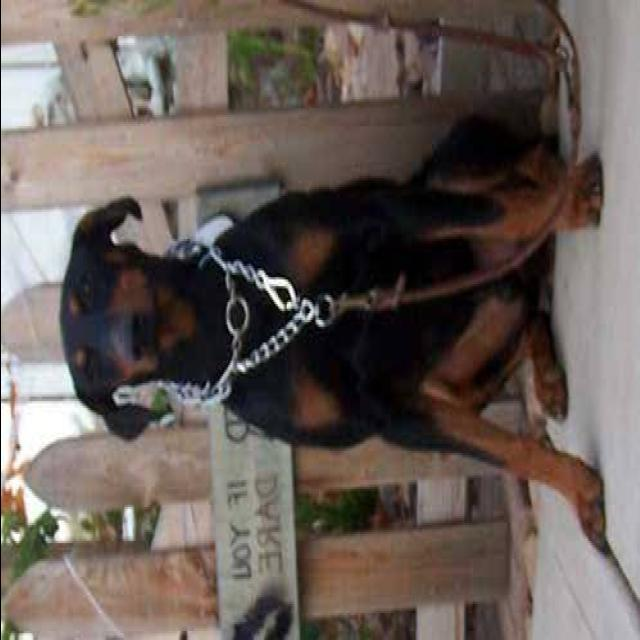dog: (41, 108, 607, 574)
